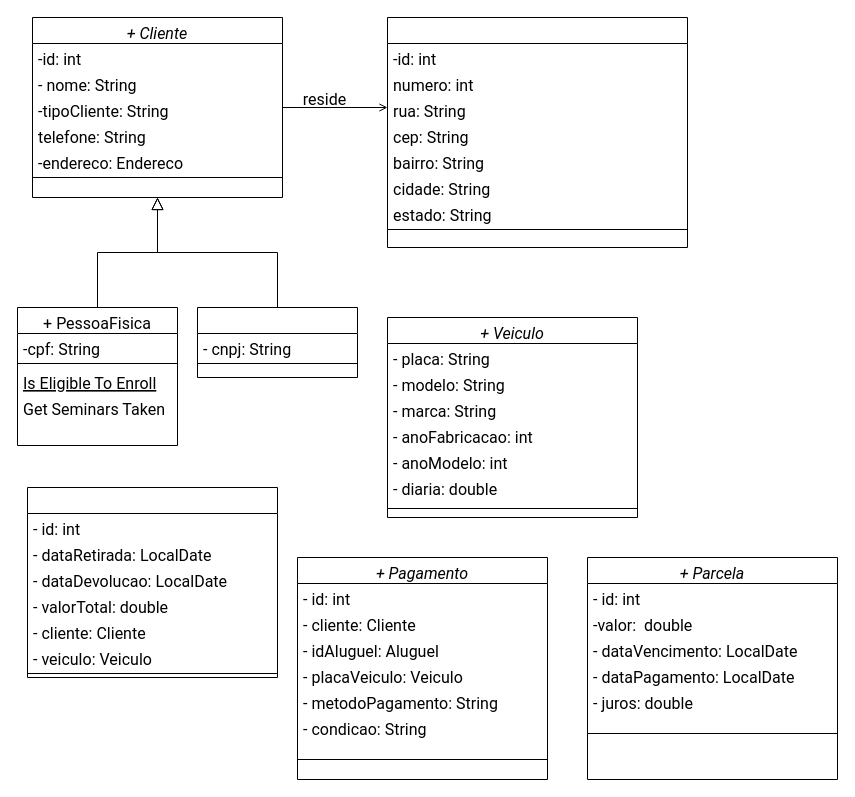
This 855x797 diagram has some shape labels left out. Here are the shapes that lost their labels. From the top down, the box of each, then its label:
(386, 16, 688, 248): + Endereco
(196, 306, 358, 378): + PessoaJuridica
(26, 486, 278, 678): + Aluguel
